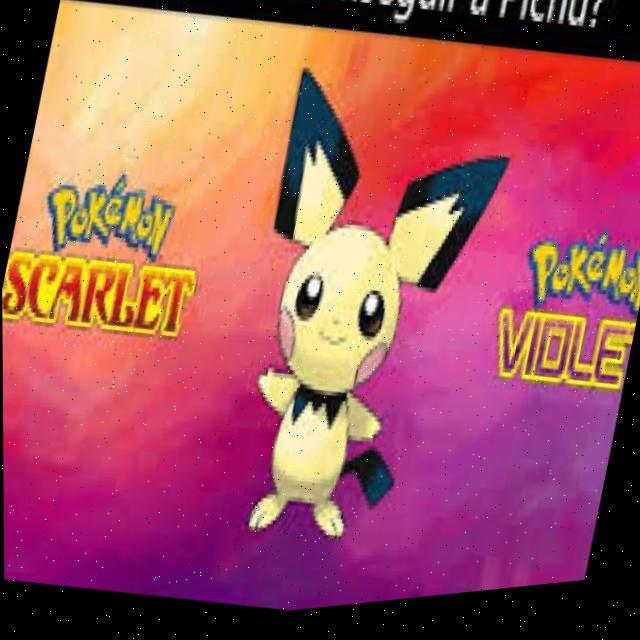pichu: (193, 31, 535, 598)
